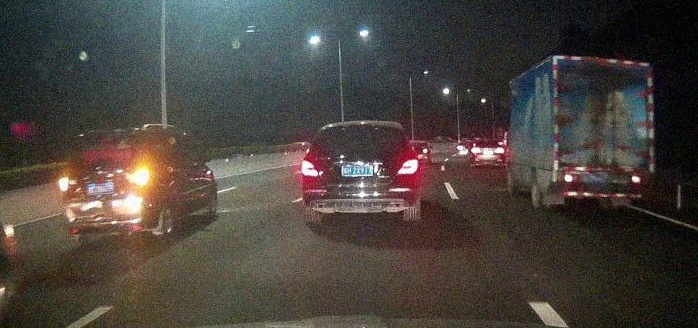L_light: (302, 161, 320, 177), (58, 177, 80, 190), (562, 173, 573, 182), (471, 147, 481, 154)
R_light: (396, 159, 419, 175), (126, 171, 149, 184), (631, 175, 641, 184), (494, 148, 504, 153)
T_light: (600, 60, 616, 65), (105, 134, 123, 138), (353, 126, 370, 129), (486, 139, 493, 141)
night-no: (552, 56, 654, 214), (302, 120, 422, 227), (471, 138, 505, 167)
night-right: (58, 124, 170, 245)
